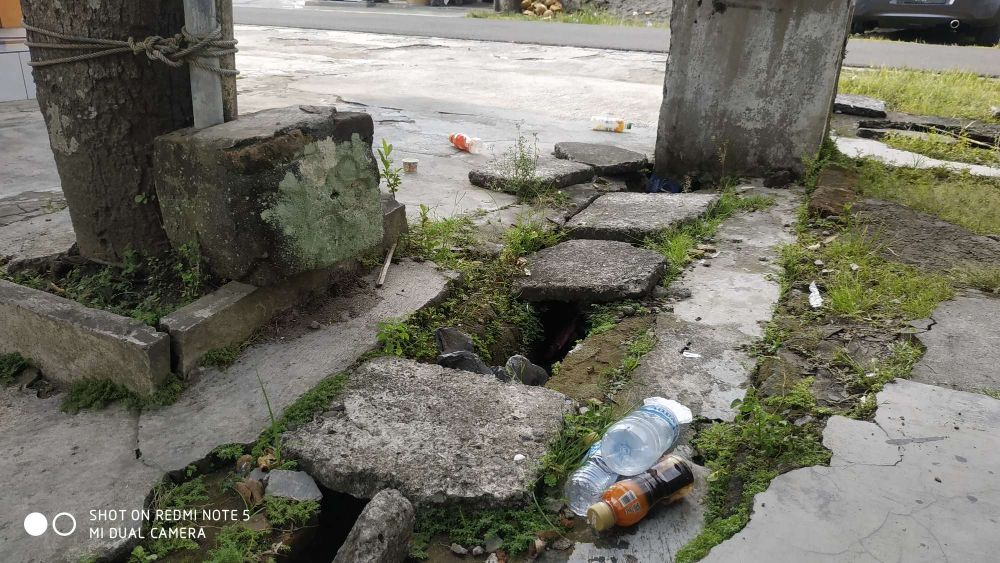botol: (579, 392, 712, 544), (585, 106, 642, 142), (441, 121, 485, 161)
